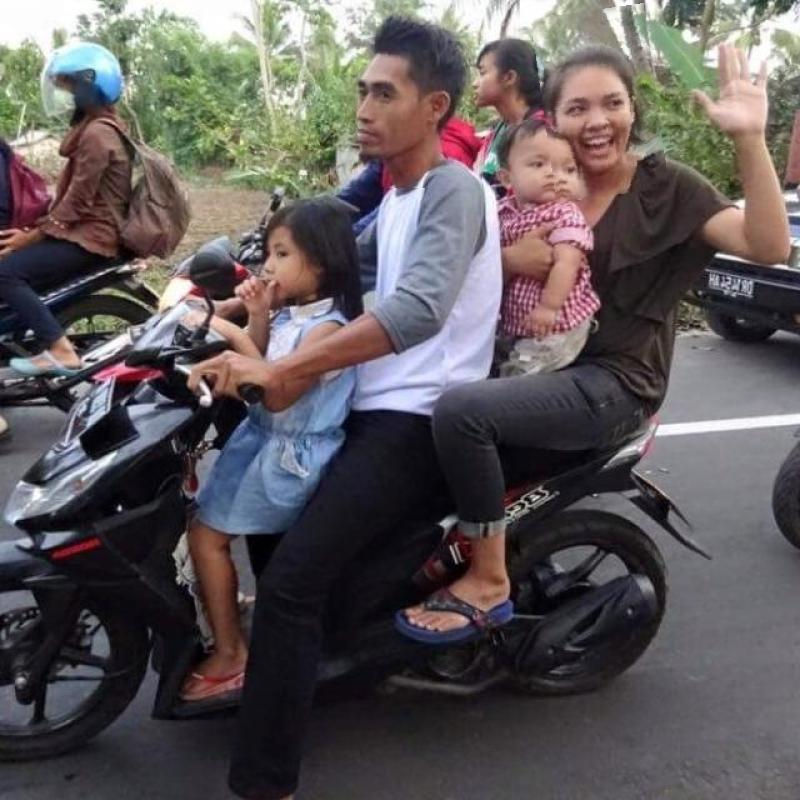nohelmet: (346, 0, 484, 188), (538, 7, 664, 200)
